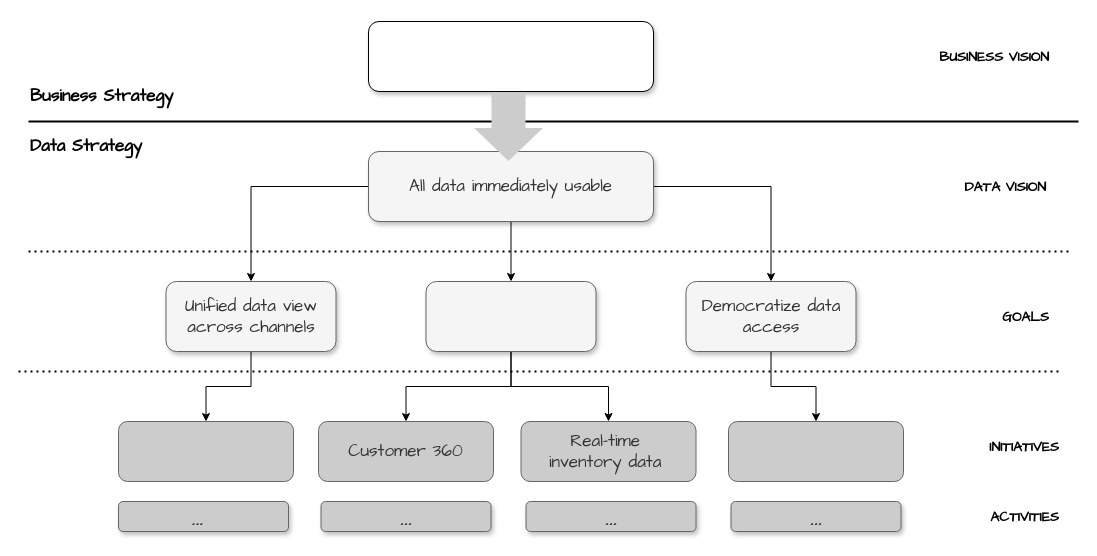
Image size: 1097x556. Some labels were removed from this diagram. Each missing label, with the centre of its shape:
Best in class omnichannel retailer: the point at 512,57
Contextual awareness: the point at 511,317
Data marketplace: the point at 816,451
Enterprise ontology: the point at 206,451
